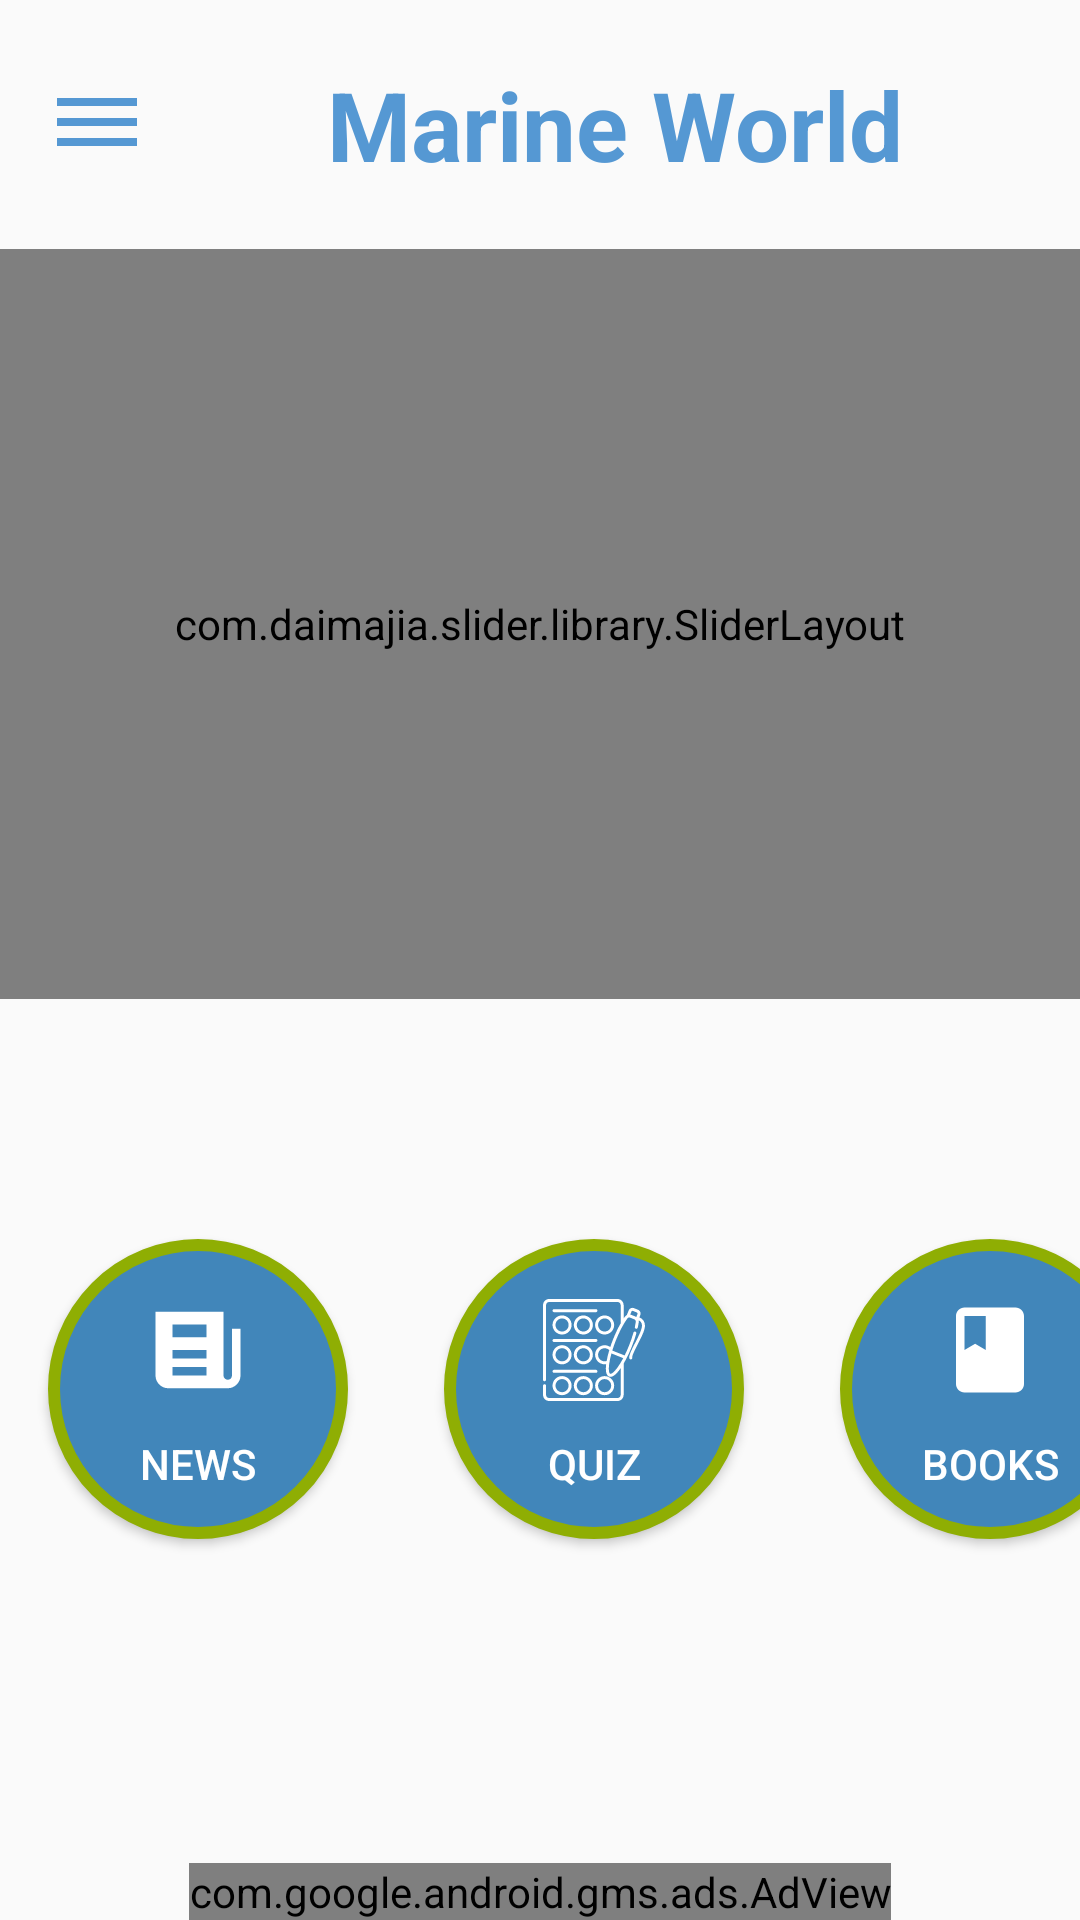

Icons on this 1080 × 1920 Android screen, each with its box as bbox=(x1, y1, x2, y2):
dehaze: bbox=(57, 98, 137, 146)
